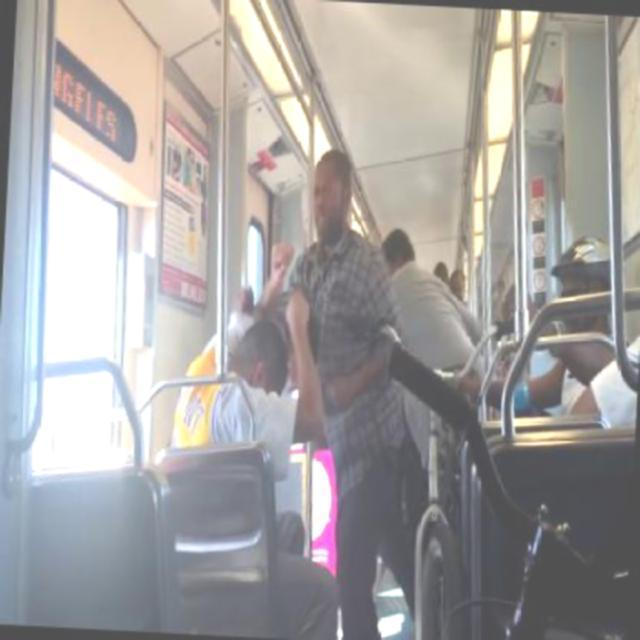fight: (168, 140, 428, 549)
